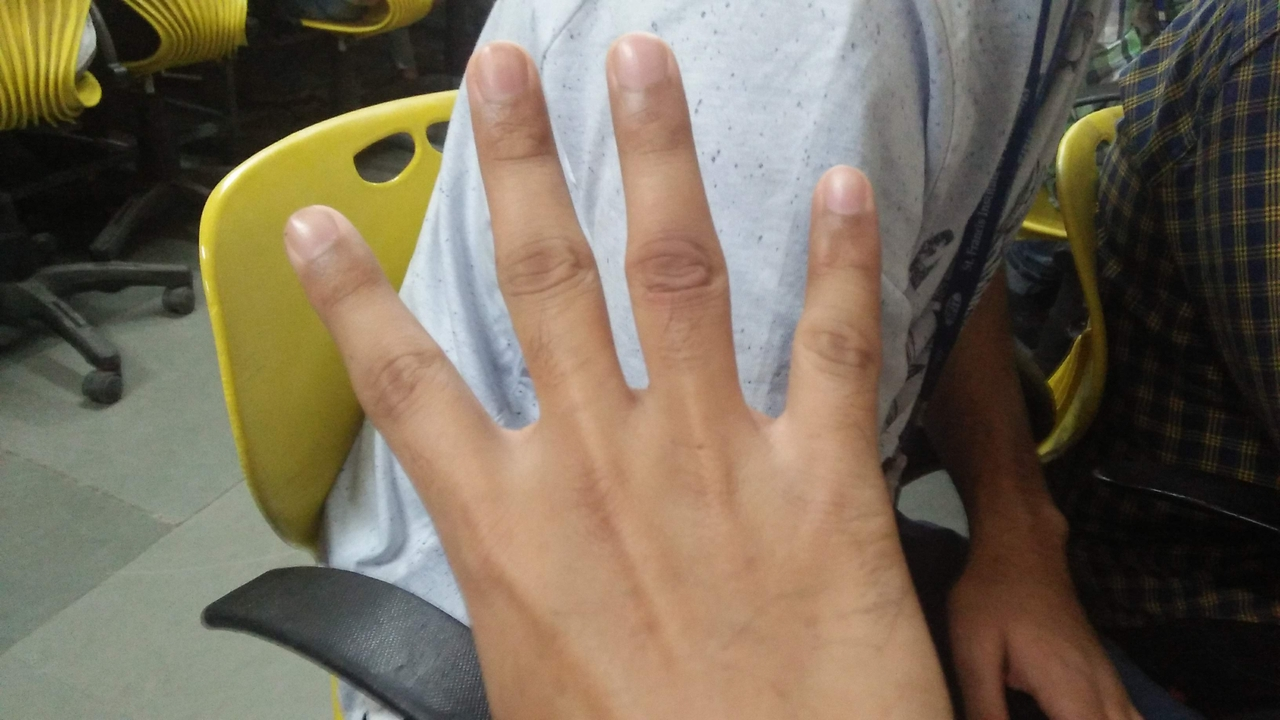fingertip: (274, 204, 354, 272), (460, 32, 530, 108), (810, 160, 882, 226), (604, 30, 674, 94)
